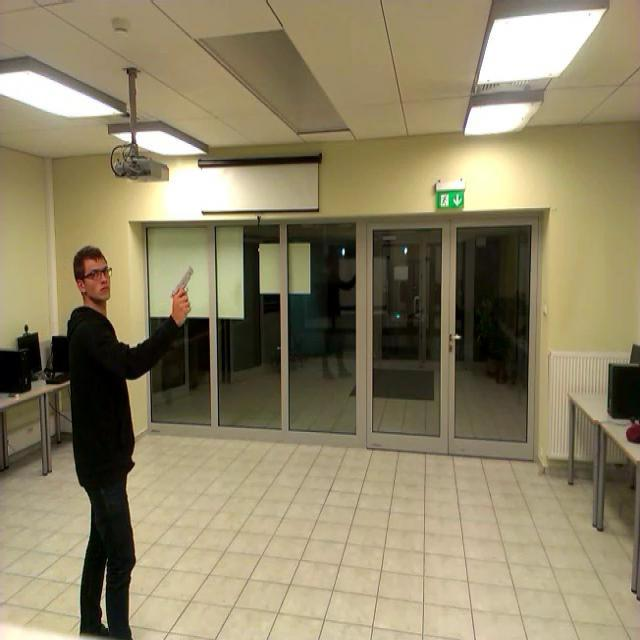weapon: (169, 266, 194, 302)
